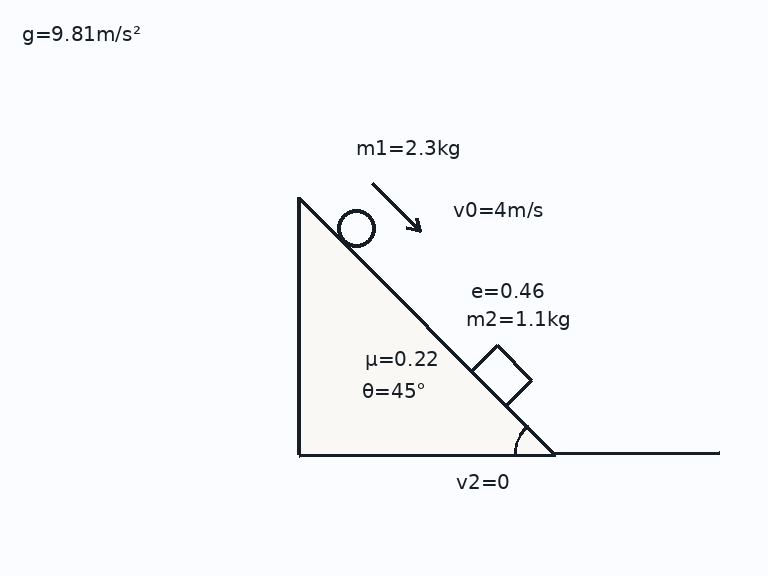ball: (335, 207, 377, 249)
block: (469, 343, 533, 407)
ramp: (296, 195, 557, 456)
